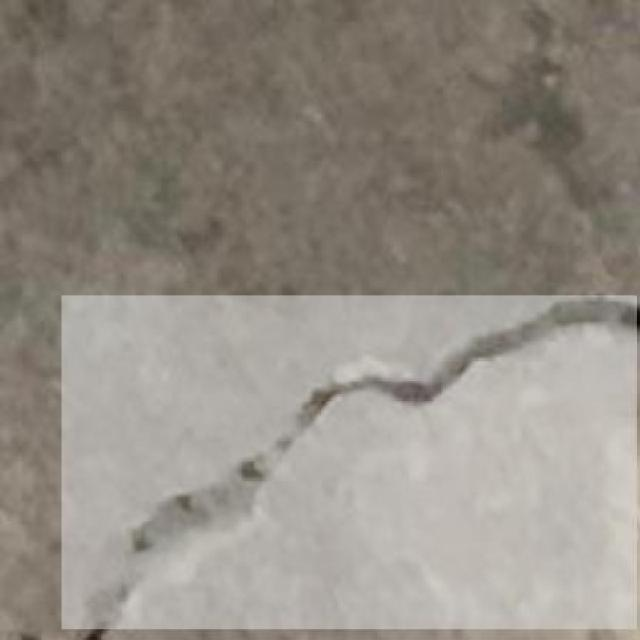Crack: (85, 288, 640, 640)
